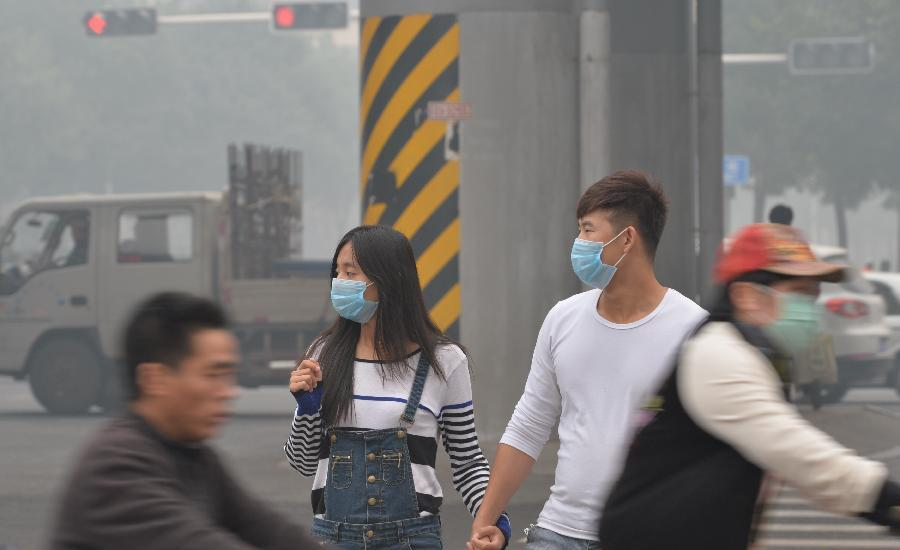NONE: (164, 354, 238, 437)
OK: (751, 276, 825, 354), (570, 219, 628, 285), (332, 256, 383, 323)
